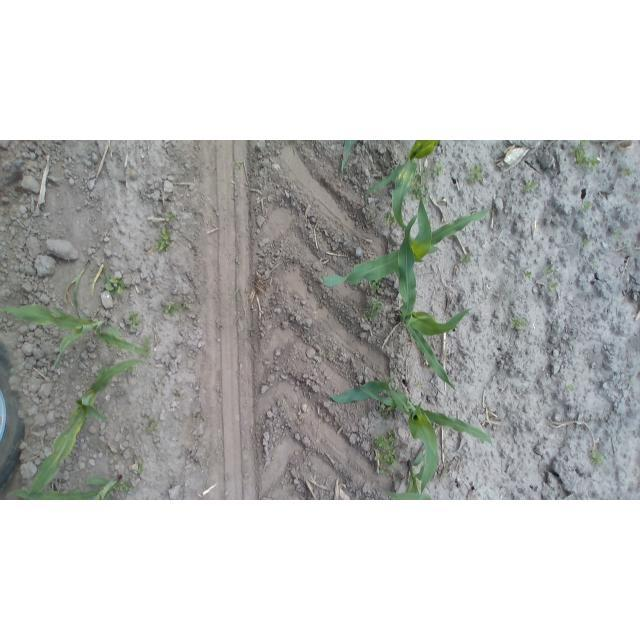Maize: (330, 374, 498, 494), (17, 357, 151, 499), (387, 214, 475, 393), (322, 197, 495, 288), (1, 293, 152, 367), (363, 141, 443, 226), (8, 466, 130, 498), (58, 256, 104, 316), (392, 448, 436, 500), (340, 141, 356, 178)
Weeds: (371, 428, 399, 476), (569, 141, 602, 168), (364, 295, 384, 322), (105, 275, 126, 299), (154, 227, 172, 251), (466, 165, 485, 186), (409, 178, 425, 201), (588, 447, 607, 466), (508, 315, 528, 332), (161, 301, 183, 316), (125, 313, 142, 332), (144, 417, 159, 436), (377, 407, 394, 422), (369, 277, 383, 295), (430, 162, 444, 180), (523, 179, 538, 195), (115, 481, 133, 493), (134, 458, 146, 476), (313, 297, 328, 311), (230, 286, 243, 302), (383, 214, 397, 227), (459, 252, 472, 266), (141, 338, 152, 354), (164, 211, 177, 224), (582, 199, 594, 213), (547, 279, 559, 293), (142, 335, 152, 351), (543, 264, 555, 277), (246, 325, 257, 338), (612, 228, 623, 240), (621, 167, 634, 177), (181, 301, 191, 312), (523, 269, 533, 280), (235, 159, 245, 170), (172, 387, 182, 397), (234, 255, 243, 266), (565, 384, 575, 392), (322, 351, 330, 361), (626, 378, 634, 388), (582, 237, 590, 247), (589, 261, 597, 270), (416, 381, 424, 388)
